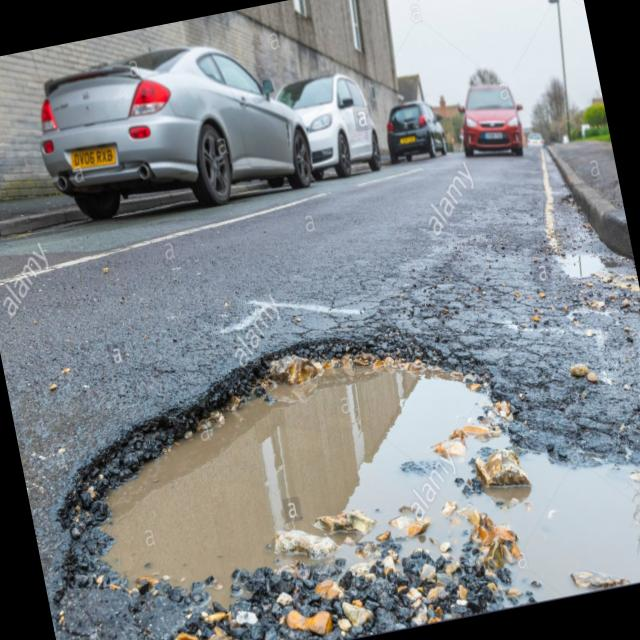Potholes: (33, 275, 640, 640)
